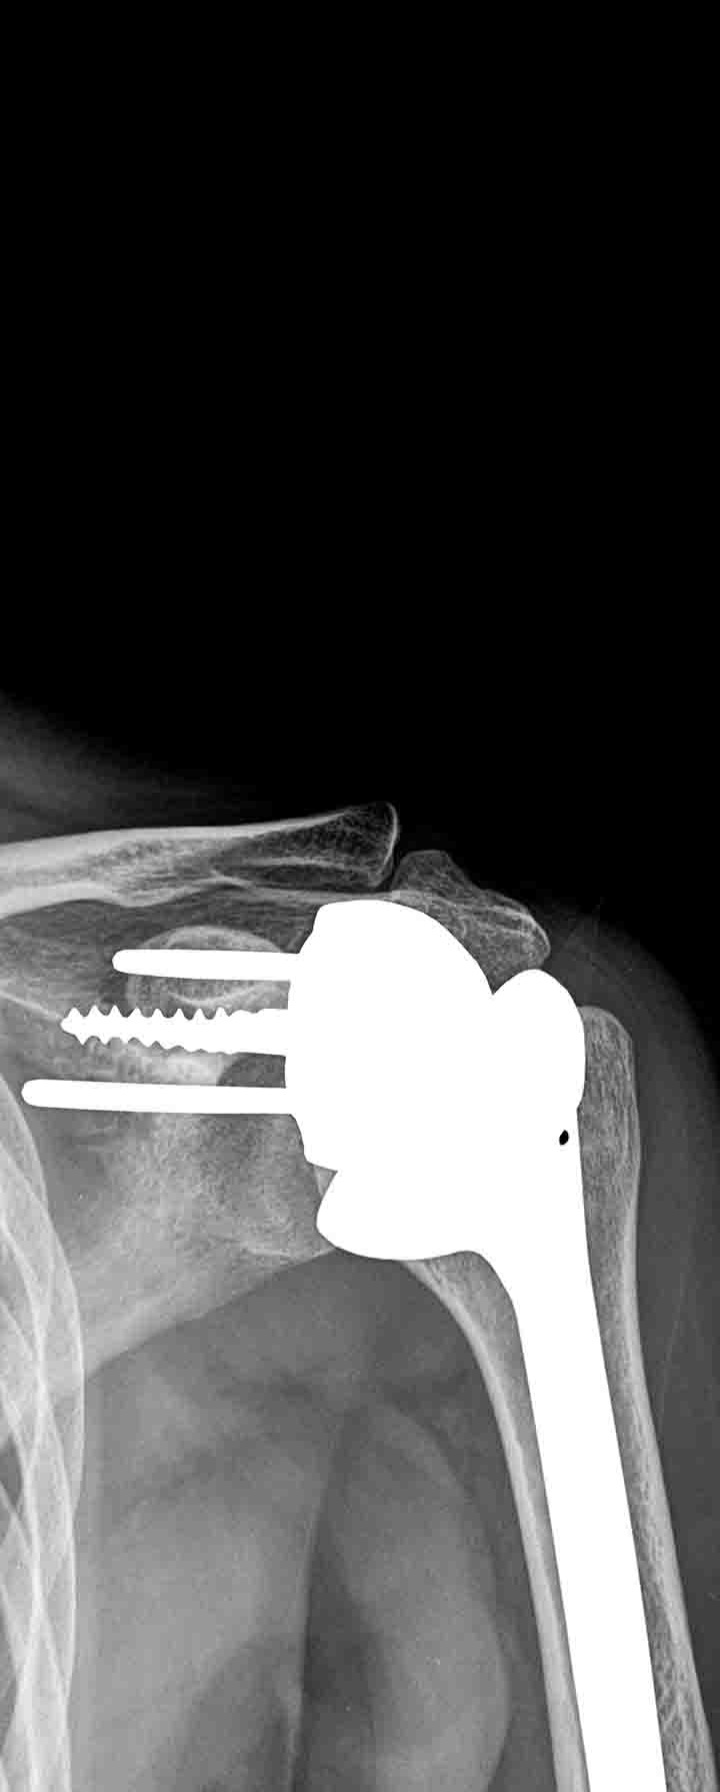Shoulder-Reverse-DJO: (14, 879, 677, 1792)
